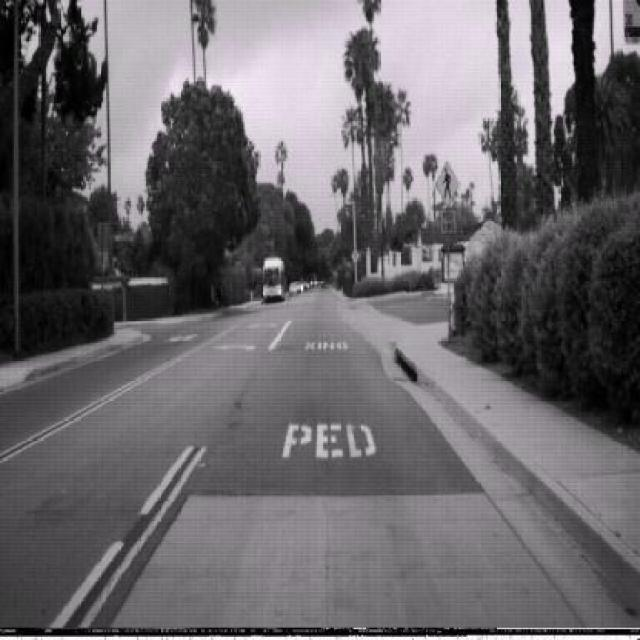pedestrianCrossing: (435, 159, 460, 208)
